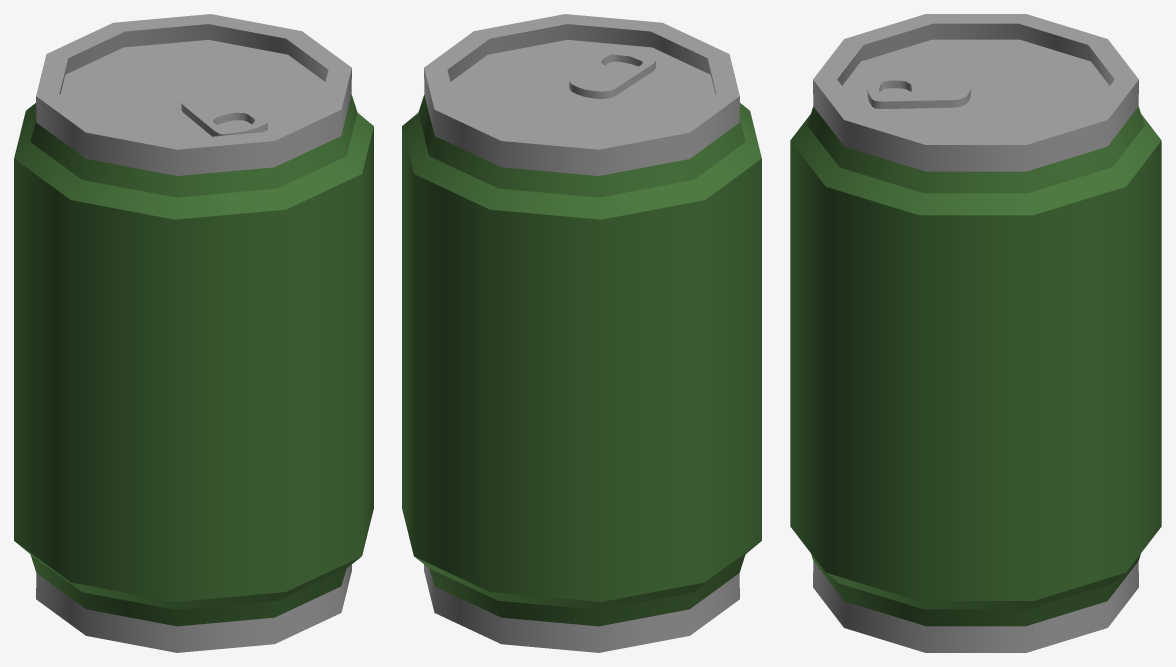
Rendered from Soda_01.fbx.
3 views of the same model, side by side, from view 1: azimuth 30°, elevation 25°; view 2: azimuth 150°, elevation 25°; view 3: azimuth 270°, elevation 25° (orthographic).
Visible parts, largest first — view 1: Soda_01; view 2: Soda_01; view 3: Soda_01.
Part boxes in pixels (x1,y1,x2,y2): Soda_01: (14,14,373,652); Soda_01: (402,14,761,652); Soda_01: (790,14,1161,652).
Bounding box in the file's own units: 0.1109 × 0.176 × 0.1166.
